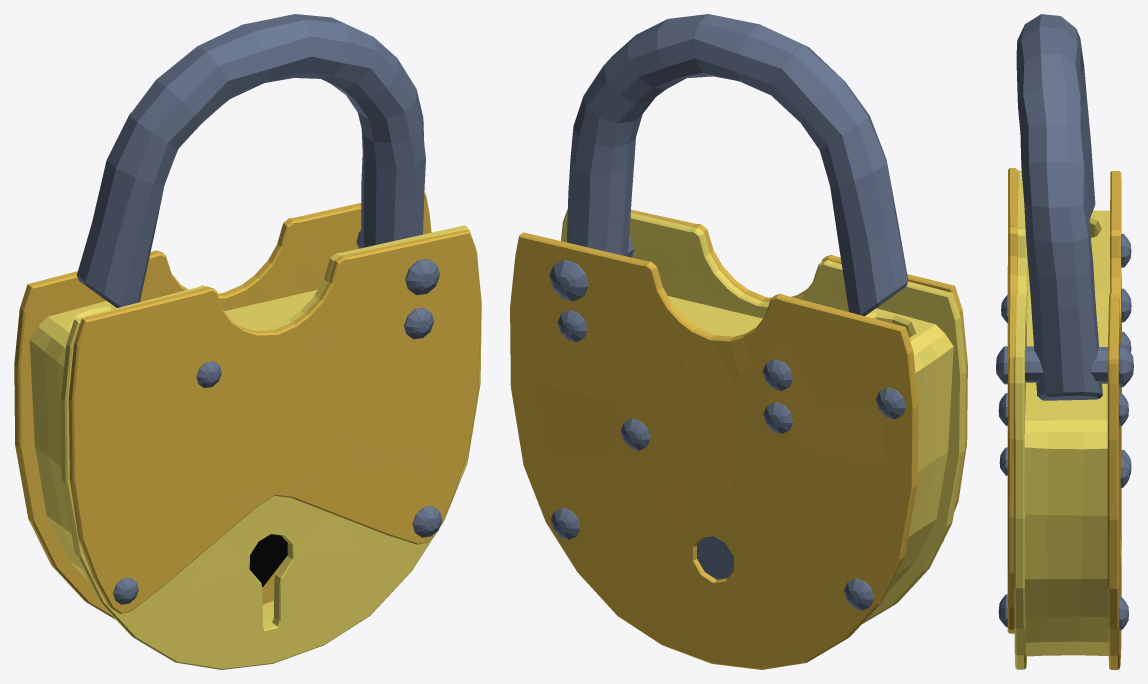
The model's file is candado@animacion3.fbx.
The picture shows the model from 3 angles, left to right: view 1: azimuth 30°, elevation 25°; view 2: azimuth 150°, elevation 25°; view 3: azimuth 270°, elevation 25°; orthographic projection. The views are drawn at different scales.
Parts seen in each view (by area): view 1: group_PB104_lock_SM_Seredyna; view 2: group_PB104_lock_SM_Seredyna; view 3: group_PB104_lock_SM_Seredyna.
Part boxes in pixels (x1,y1,x2,y2): group_PB104_lock_SM_Seredyna: (14, 14, 481, 669); group_PB104_lock_SM_Seredyna: (510, 14, 967, 669); group_PB104_lock_SM_Seredyna: (996, 14, 1133, 669).
Size of the model in its own units: 57.92 by 83.23 by 16.88.
